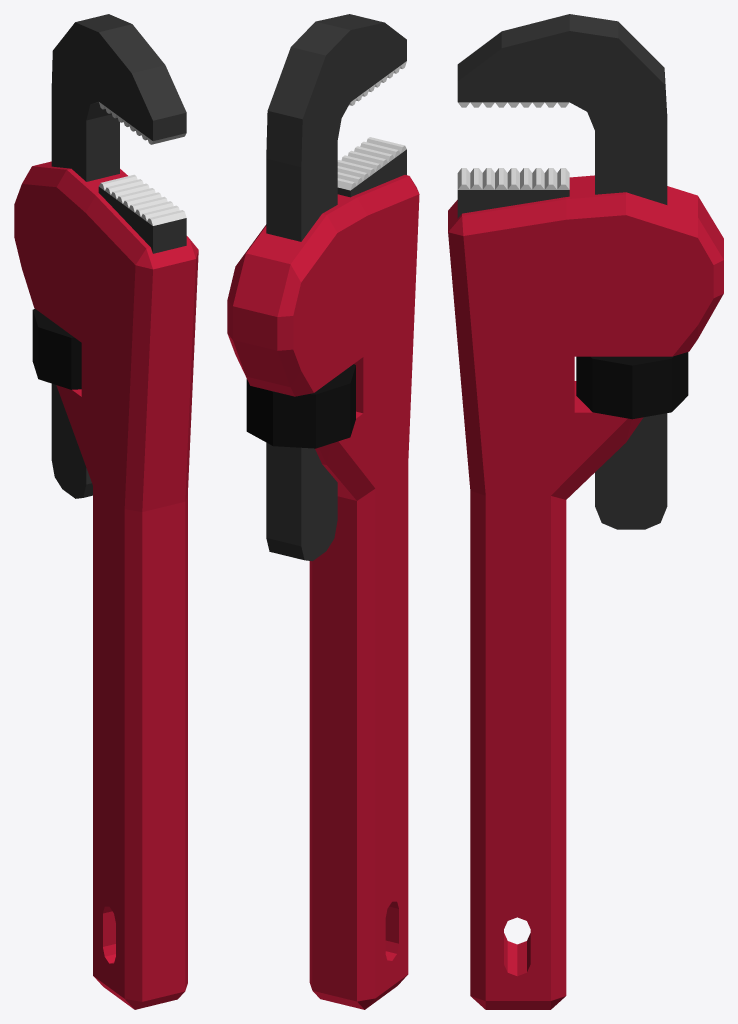
File: Wrench.glb
The picture shows the model from 3 angles, left to right: view 1: azimuth 30°, elevation 25°; view 2: azimuth 150°, elevation 25°; view 3: azimuth 270°, elevation 25°; orthographic projection. The views are drawn at different scales.
Parts seen in each view (by area): view 1: Wrench; view 2: Wrench; view 3: Wrench.
Boxes of the visible parts, <box> form: Wrench: <box>14,14,198,1009</box>; Wrench: <box>227,14,419,1009</box>; Wrench: <box>448,14,723,1009</box>.
Size of the model in its own units: 0.0363 by 0.3493 by 0.0894.
1 material, 1 textured.
